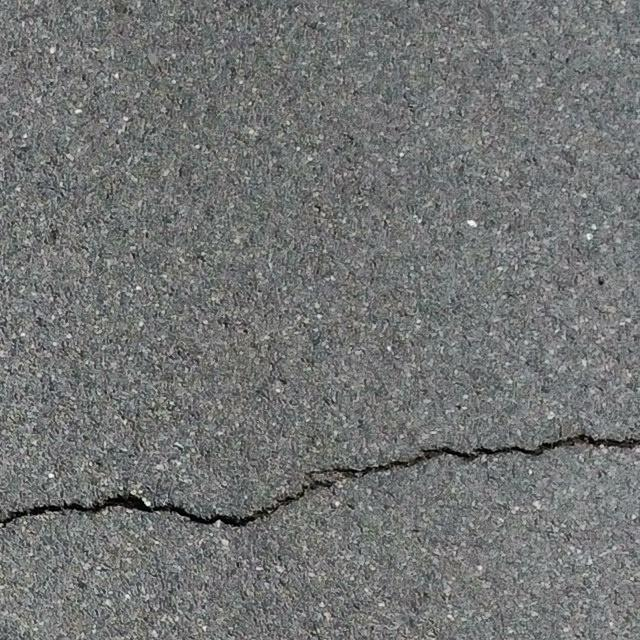TransverseCrack: (1, 433, 640, 528)
